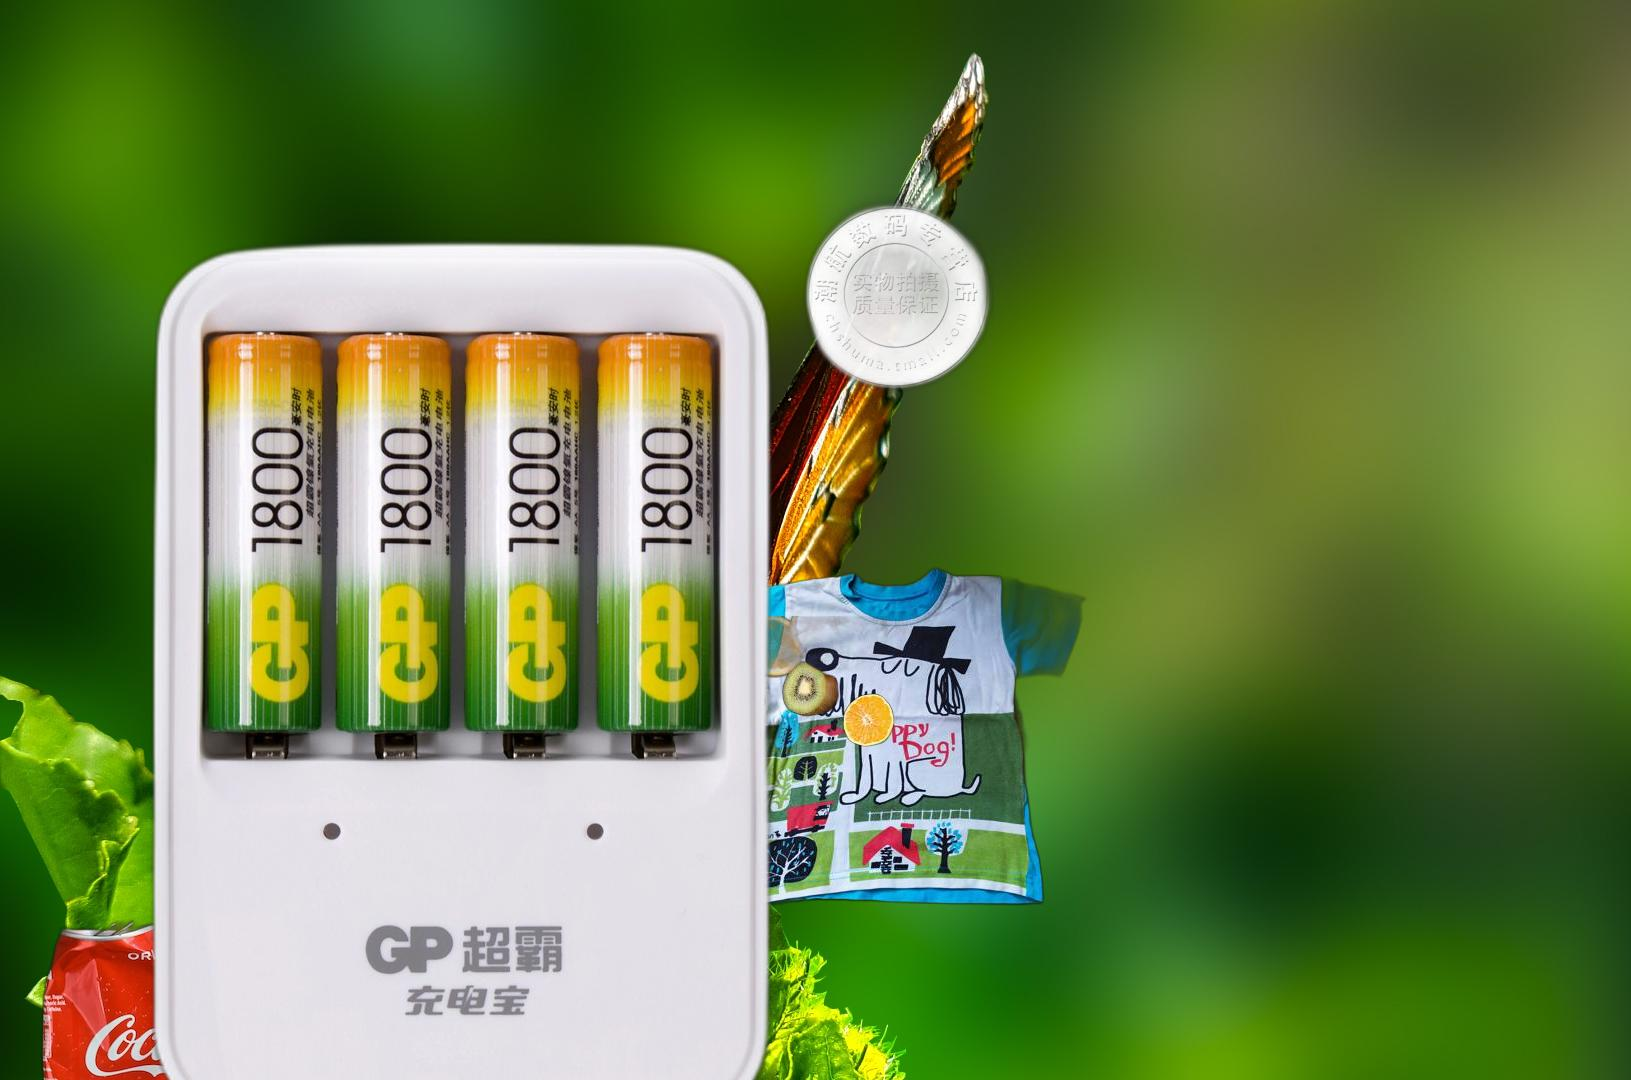battery: (143, 194, 995, 1080)
biological: (697, 616, 913, 749)
clothes: (699, 432, 1099, 912)
metal-cans: (39, 915, 184, 1080)
